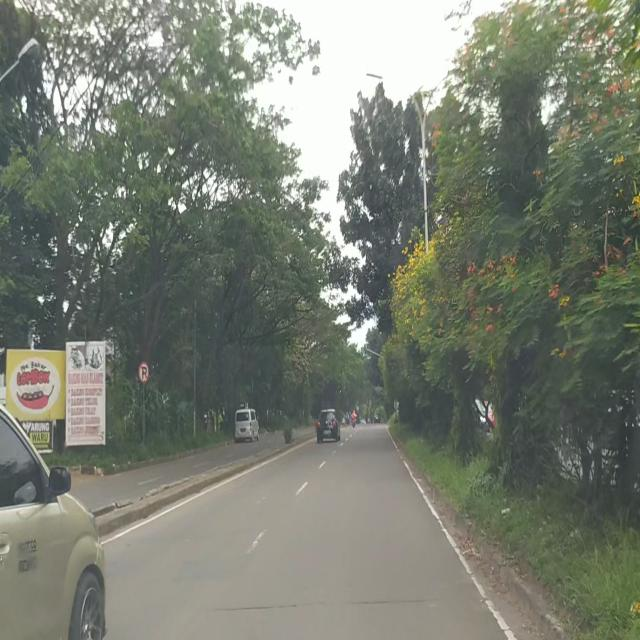Sewer Cover: (208, 598, 440, 614)
